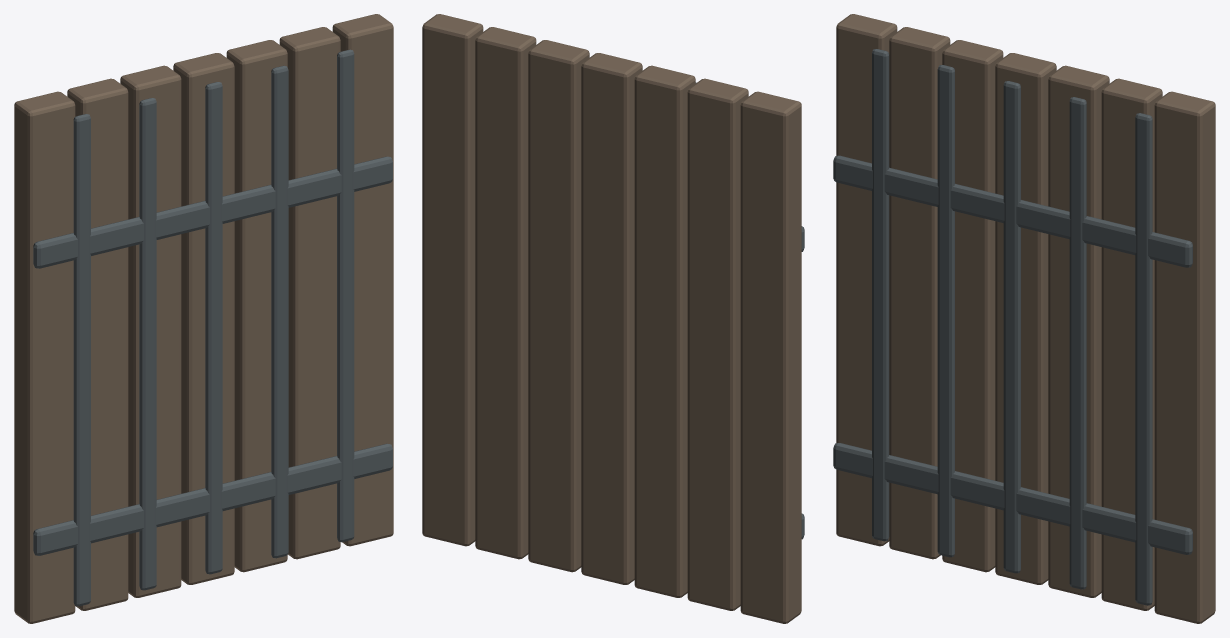
The model's file is iron_door_intact.glb.
The picture shows the model from 3 angles, left to right: view 1: azimuth 30°, elevation 25°; view 2: azimuth 150°, elevation 25°; view 3: azimuth 330°, elevation 25°; orthographic projection.
Visible parts, largest first — view 1: Body.029; view 2: Body.029; view 3: Body.029.
Boxes of the visible parts, box(x1,y1,x2,y2) form: Body.029: box(14, 14, 393, 623); Body.029: box(422, 14, 804, 623); Body.029: box(833, 14, 1215, 623).
Bounding box in the file's own units: 1 × 1.34 × 0.106.
